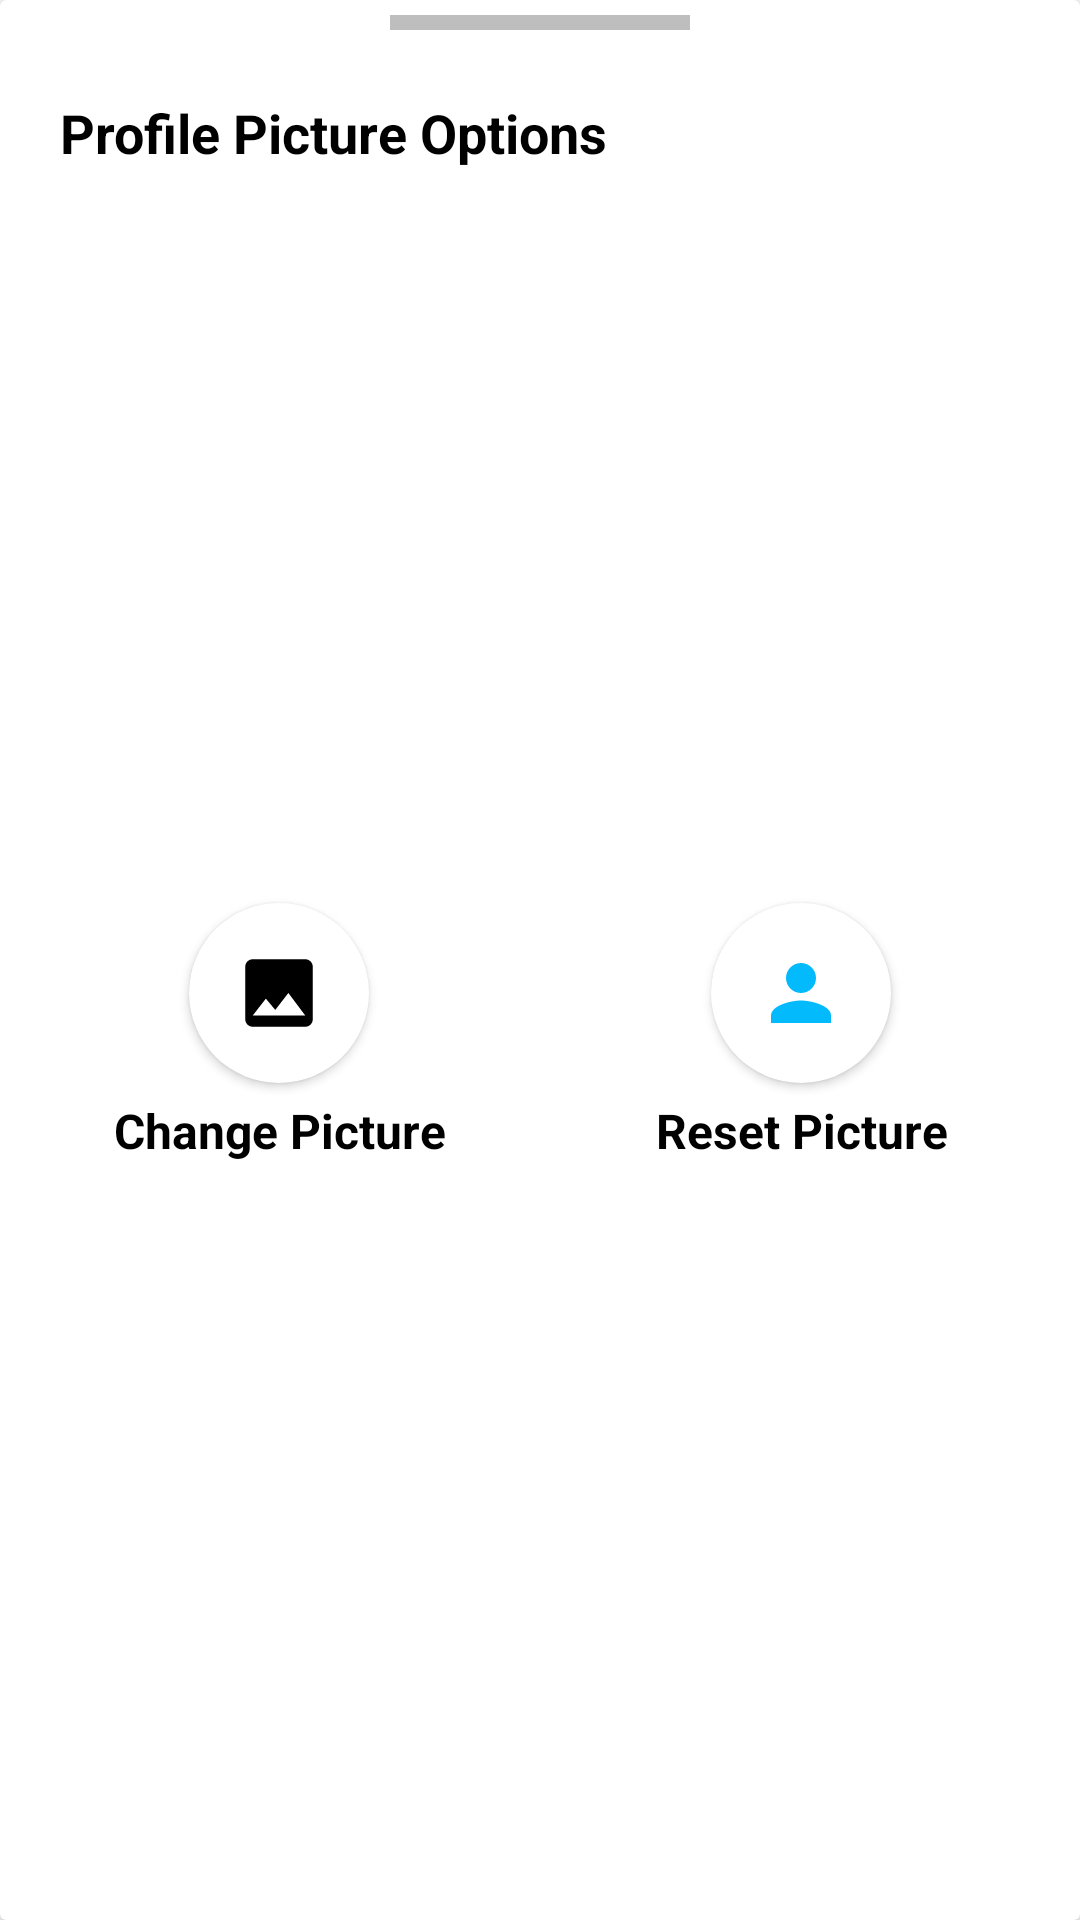

Locate icon controls on the screen. Image size 1080*1920, boxes as [left=x1, top=y1, right=x2, bottom=y2].
insert photo: [left=245, top=959, right=313, bottom=1027]
person: [left=771, top=963, right=831, bottom=1023]
